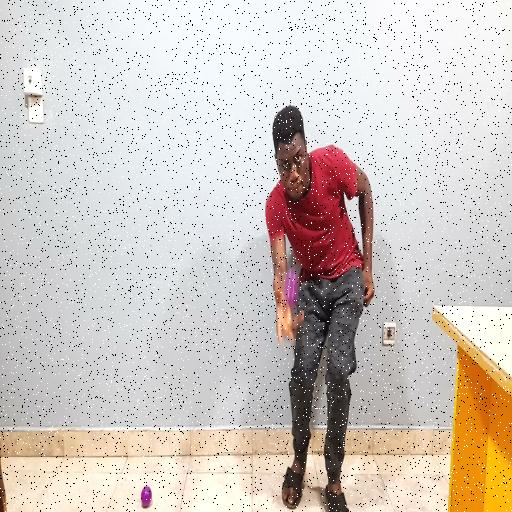plastic-ball: (284, 267, 298, 309)
